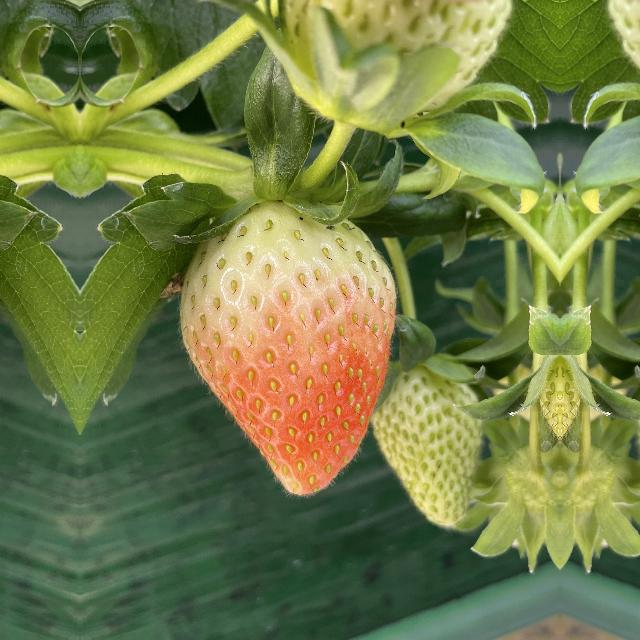Health_25: (376, 360, 479, 528)
Health_75: (172, 199, 400, 497)
